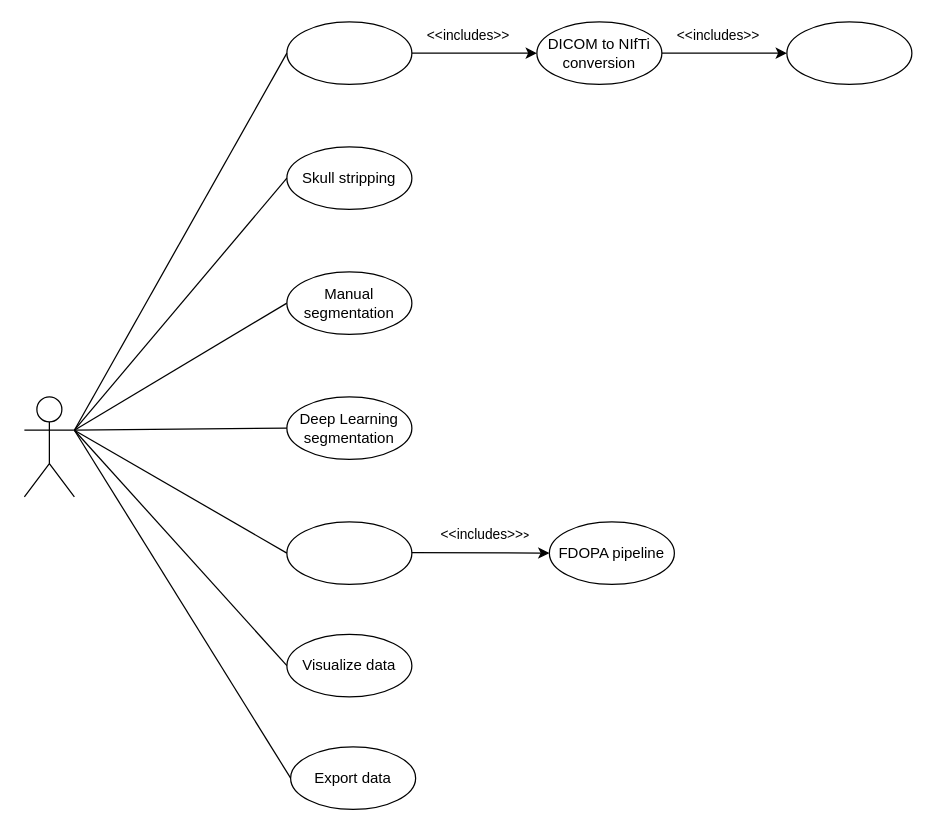
This 934x831 diagram has some shape labels left out. The centre of each missing label's shape, as x and y in pixels:
"BIDS structure renaming" goes at point (849, 52).
"Clinician" goes at point (48, 446).
"Import data" goes at point (349, 52).
"Start analysis" goes at point (349, 552).
